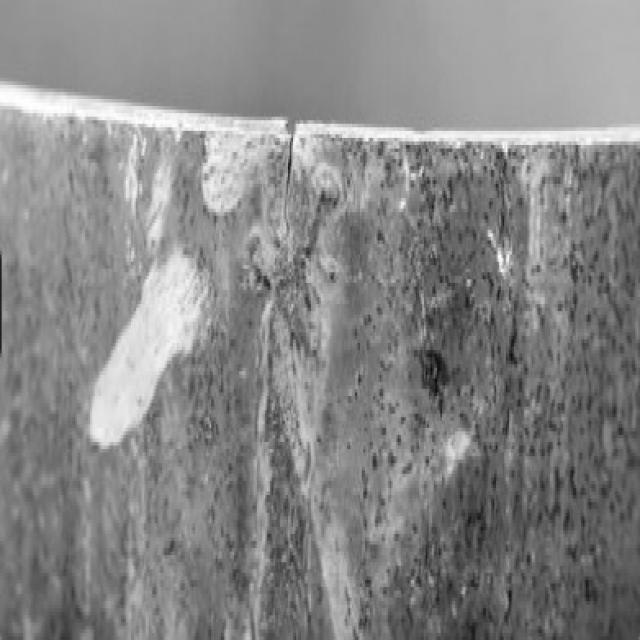Bad Weld: (219, 109, 331, 636)
Defect: (258, 120, 310, 227)
